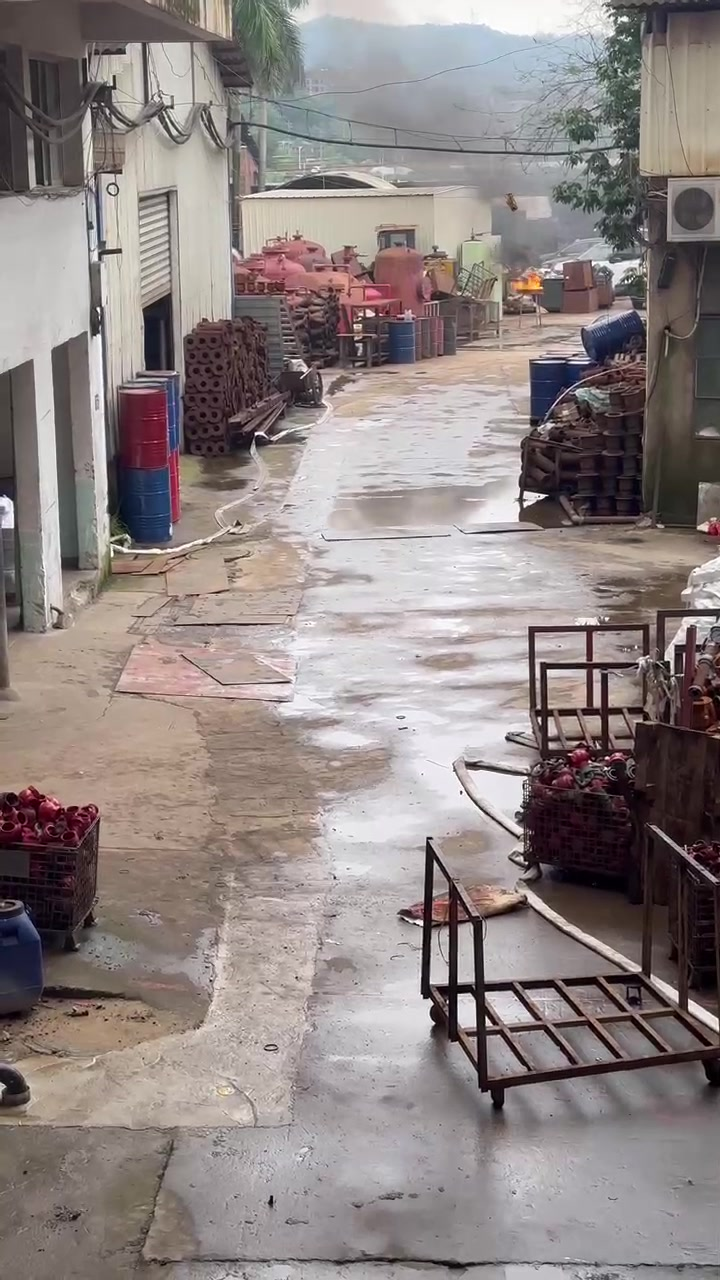fire: (510, 273, 542, 288)
